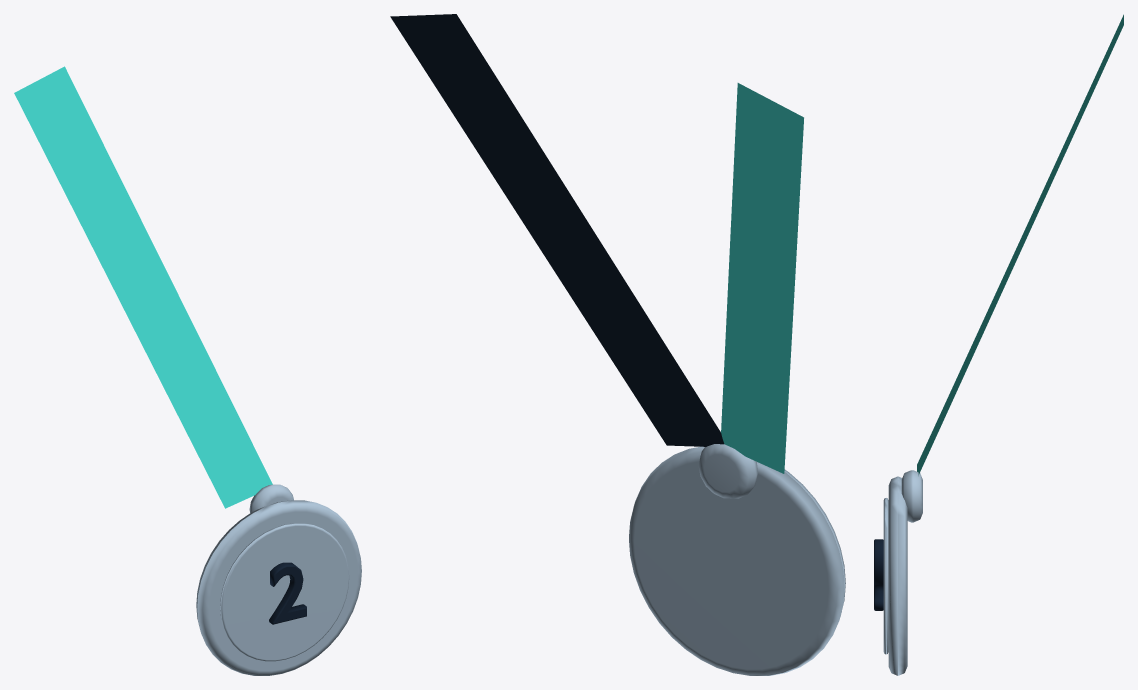
The model's file is silver-medal.glb.
3 views of the same model, side by side, from view 1: azimuth 30°, elevation 25°; view 2: azimuth 150°, elevation 25°; view 3: azimuth 270°, elevation 25° (orthographic). The views are drawn at different scales.
Visible parts, largest first — view 1: silver-medal / consolidated CC0 mesh; view 2: silver-medal / consolidated CC0 mesh; view 3: silver-medal / consolidated CC0 mesh.
Boxes of the visible parts, box(x1,y1,x2,y2) form: silver-medal / consolidated CC0 mesh: box(14, 66, 361, 675); silver-medal / consolidated CC0 mesh: box(390, 14, 845, 675); silver-medal / consolidated CC0 mesh: box(874, 14, 1123, 675).
Size of the model in its own units: 0.162 by 0.272 by 0.1051.
